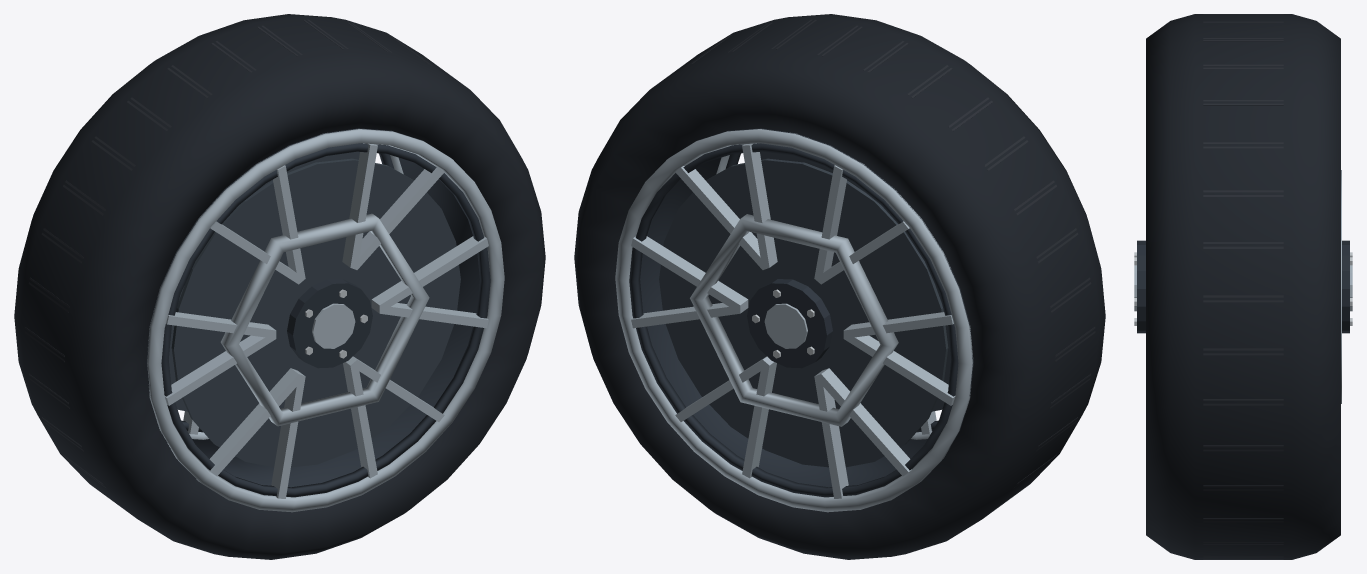
Rendered from hex.glb.
3 renders of one model, left to right at view 1: azimuth 30°, elevation 25°; view 2: azimuth 150°, elevation 25°; view 3: azimuth 270°, elevation 25°, orthographic.
Parts seen in each view (by area): view 1: wheel; view 2: wheel; view 3: wheel.
Boxes of the visible parts, x1,y1,x2,y2 form: wheel: (14, 14, 545, 559); wheel: (574, 14, 1105, 559); wheel: (1134, 14, 1352, 559).
Bounding box in the file's own units: 2 × 2 × 0.8.
